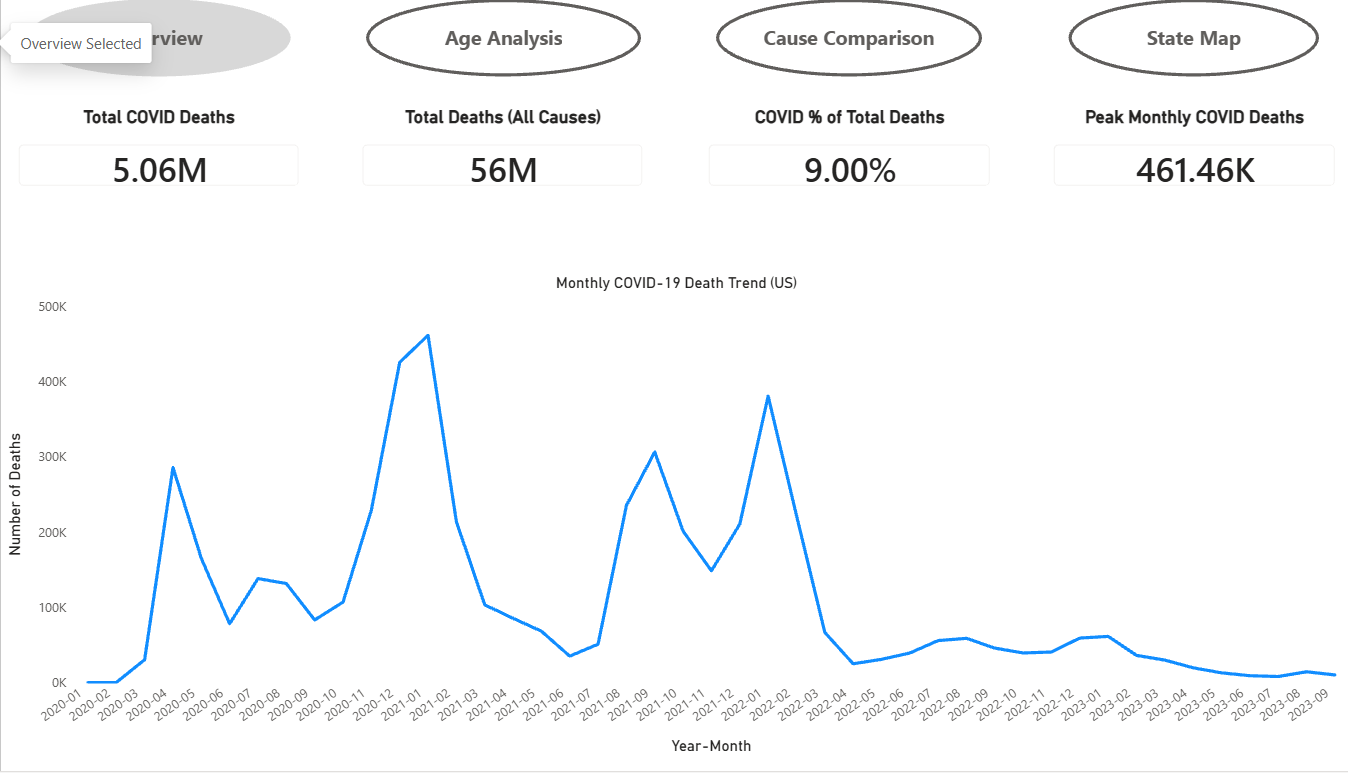

What the dashboard file says about the page in this screenshot:
{"tool":"powerbi","page":{"name":"Overview","canvas":[1280,720],"ordinal":0},"visuals":[{"type":"cardVisual","title":"Total COVID Deaths","fields":{"Data":["Covid_Death.Total COVID Deaths"]},"box":[0,101.5,299.6,92.9],"z":0},{"type":"cardVisual","title":"Total Deaths (All Causes)","fields":{"Data":["Covid_Death.Total Deaths"]},"box":[325.3,101.5,299.6,92.9],"z":1000},{"type":"cardVisual","title":"COVID % of Total Deaths","fields":{"Data":["Covid_Death.COVID Share of Total Deaths"]},"box":[653,101.5,300.8,92.9],"z":2000},{"type":"cardVisual","title":"Peak Monthly COVID Deaths","fields":{"Data":["Covid_Death.Peak Monthly COVID Deaths"]},"box":[979.5,101.5,300.8,92.9],"z":3000},{"type":"lineChart","title":"Monthly COVID-19 Death Trend (US)","fields":{"Y":["Covid_Death.COVID Deaths (Monthly)"],"Category":["Date_Table.Year-Month"]},"box":[0,260.5,1279.1,459.8],"z":4000},{"type":"actionButton","title":"Age Analysis","box":[346.1,0,260.5,73.4],"z":5000},{"type":"actionButton","title":"Cause Comparison","box":[677.4,0,251.9,73.4],"z":6000},{"type":"actionButton","title":"State Map","box":[1011.3,0,237.2,73.4],"z":7000},{"type":"actionButton","title":"Overview","box":[24.5,0,249.5,73.4],"z":8000}]}

Visuals, with their boxes in screenshot pixels (x1, y1, x2, y2), scaled from the page's 1280x720 canvas onto the 1348x773 screenshot:
"Total COVID Deaths" cardVisual: {"left": 0, "top": 109, "right": 316, "bottom": 209}
"Total Deaths (All Causes)" cardVisual: {"left": 343, "top": 109, "right": 658, "bottom": 209}
"COVID % of Total Deaths" cardVisual: {"left": 688, "top": 109, "right": 1004, "bottom": 209}
"Peak Monthly COVID Deaths" cardVisual: {"left": 1032, "top": 109, "right": 1347, "bottom": 209}
"Monthly COVID-19 Death Trend (US)" lineChart: {"left": 0, "top": 280, "right": 1347, "bottom": 772}
"Age Analysis" actionButton: {"left": 364, "top": 0, "right": 639, "bottom": 79}
"Cause Comparison" actionButton: {"left": 713, "top": 0, "right": 979, "bottom": 79}
"State Map" actionButton: {"left": 1065, "top": 0, "right": 1315, "bottom": 79}
"Overview" actionButton: {"left": 26, "top": 0, "right": 289, "bottom": 79}
